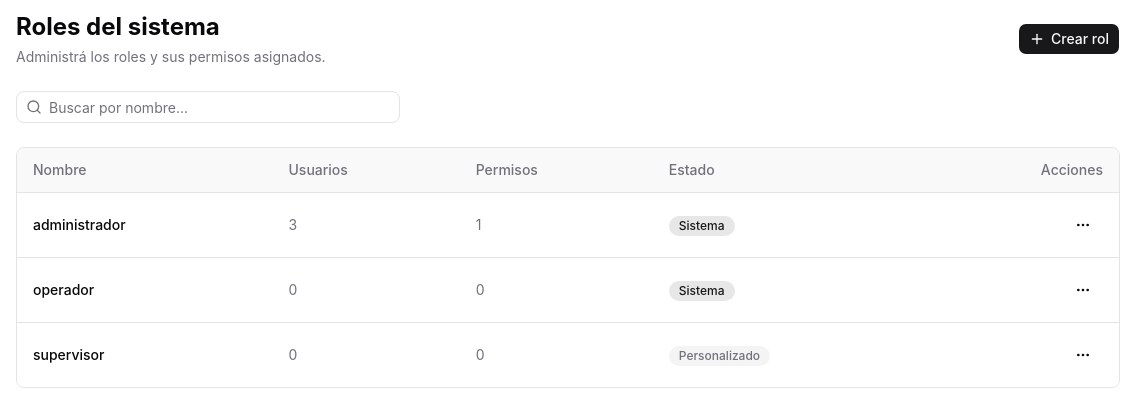
Test case: PaginaRoles › roles iniciales tienen items Editar y Eliminar deshabilitados en el DropdownMenu
Note: Abrir el DropdownMenu del primer rol (administrador — es_inicial)
Click the button named "acciones para" at (1083, 225), box [1063, 205, 1103, 245]
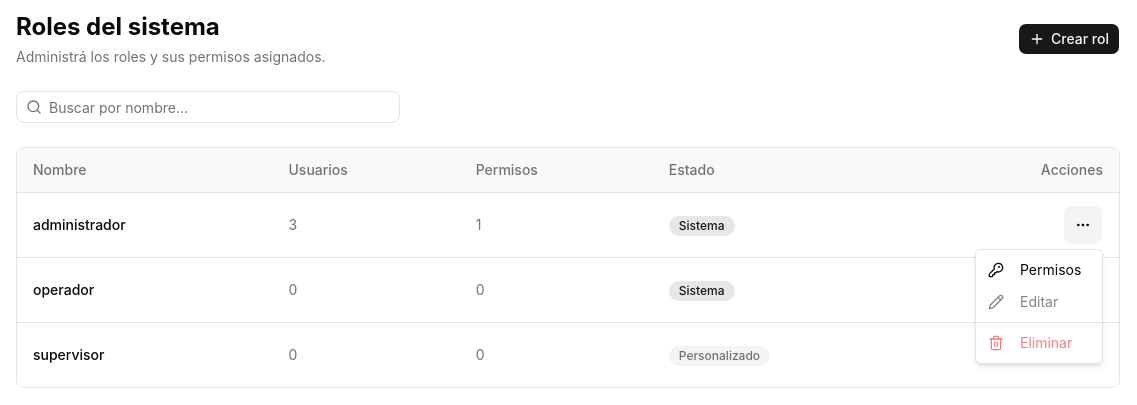
Expected: the menu item "Editar" is shown, [988, 293, 1058, 310]
Expected: the menu item "Eliminar" is shown, [988, 334, 1072, 351]
